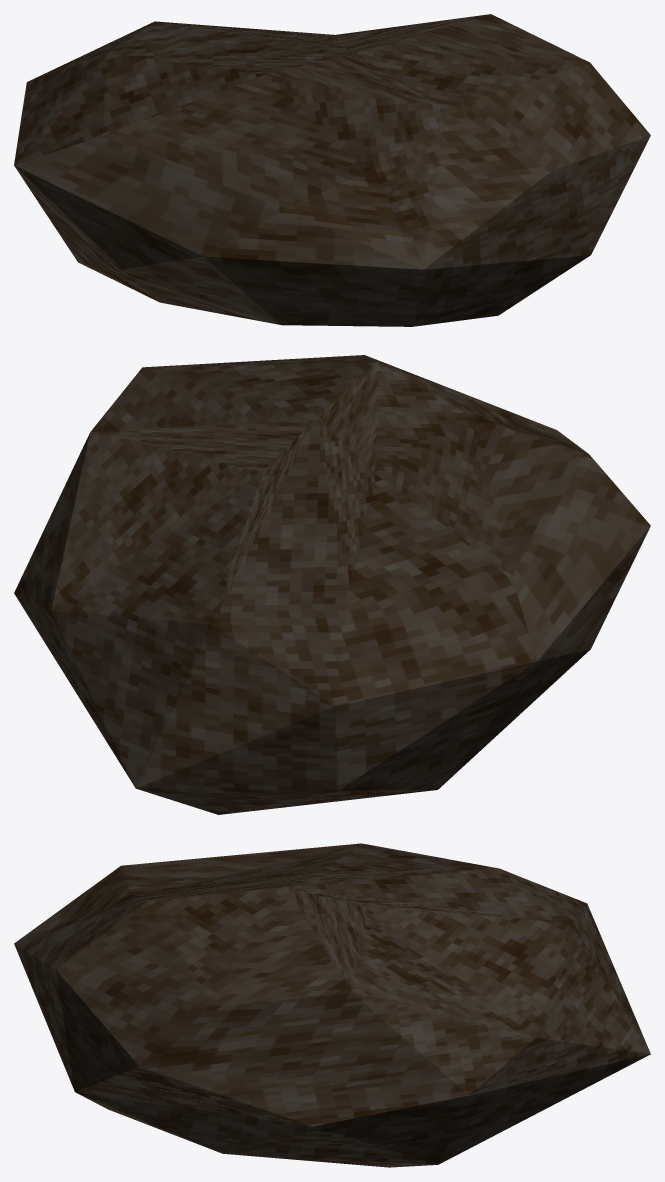
File: cave-stone1.glb
3 views of the same model, one above another, from view 1: azimuth 30°, elevation 25°; view 2: azimuth 150°, elevation 25°; view 3: azimuth 270°, elevation 25° (orthographic). The views are drawn at different scales.
Parts seen in each view (by area): view 1: Sphere; view 2: Sphere; view 3: Sphere.
Part boxes in pixels (x1=…): Sphere: x1=14, y1=14, x2=650, y2=326; Sphere: x1=14, y1=355, x2=650, y2=814; Sphere: x1=14, y1=843, x2=650, y2=1167.
Bounding box in the file's own units: 0.1908 × 0.0906 × 0.2238.
Materials: 1 (1 with a texture image).
